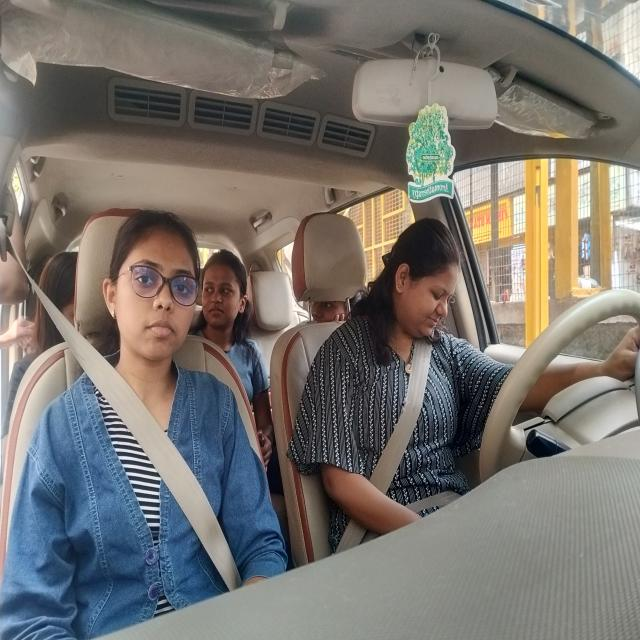drowsy: (372, 204, 462, 352)
person: (110, 220, 200, 363), (201, 257, 250, 340), (40, 257, 81, 340), (312, 303, 358, 323)
